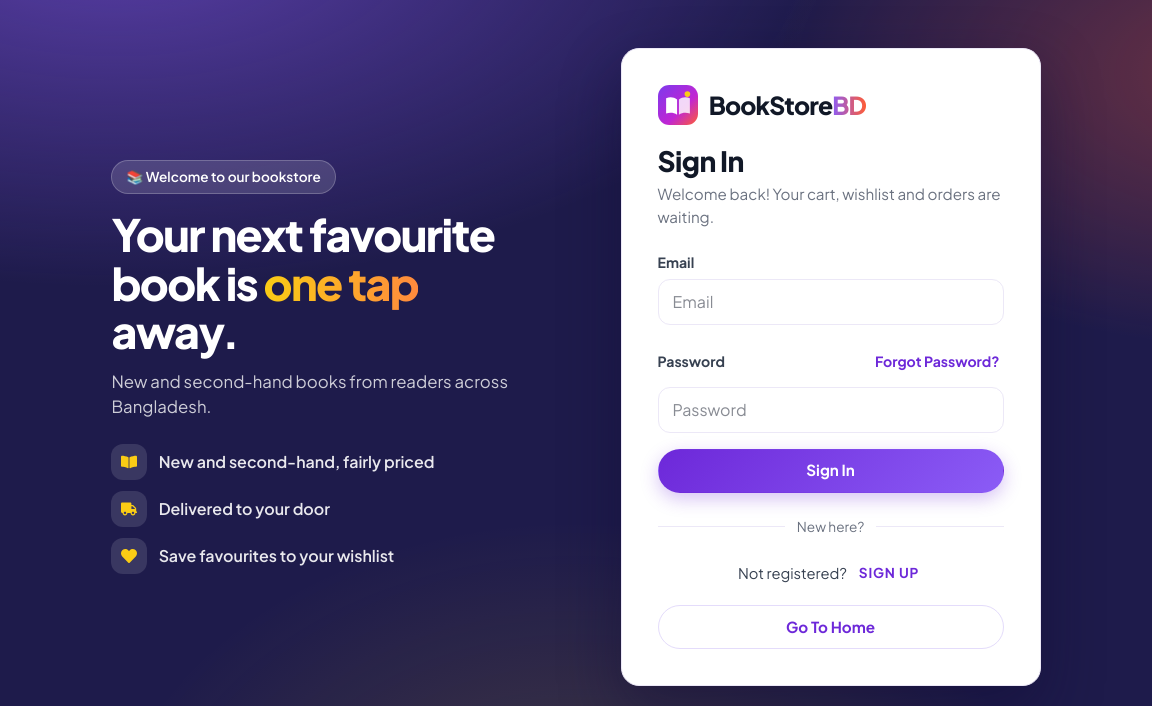
Scenario: two-step sign-in › says so when the code is wrong, and stays on the code step
Step 1. Type "reader@test.com" into the field labelled "Email" → (830, 302), box x1=658 y1=279 x2=1004 y2=325
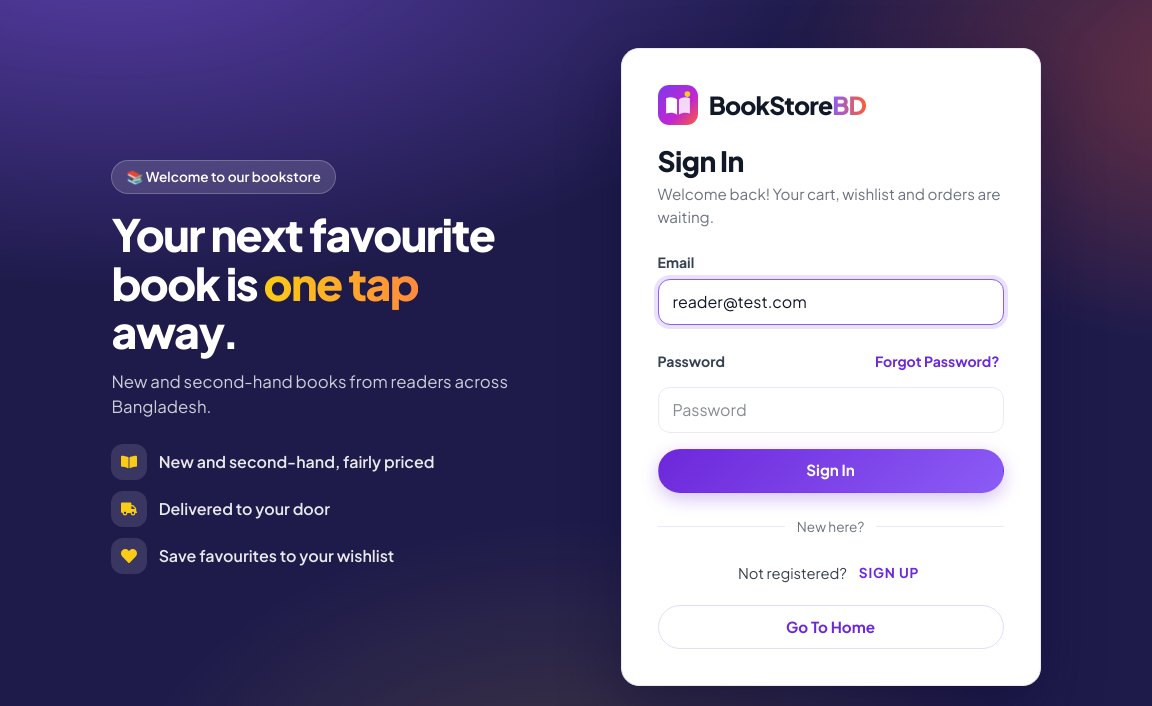
Step 2. Type "Tangerine-Lantern-42!" into the password field labelled "Password" → (830, 410), box x1=658 y1=387 x2=1004 y2=433
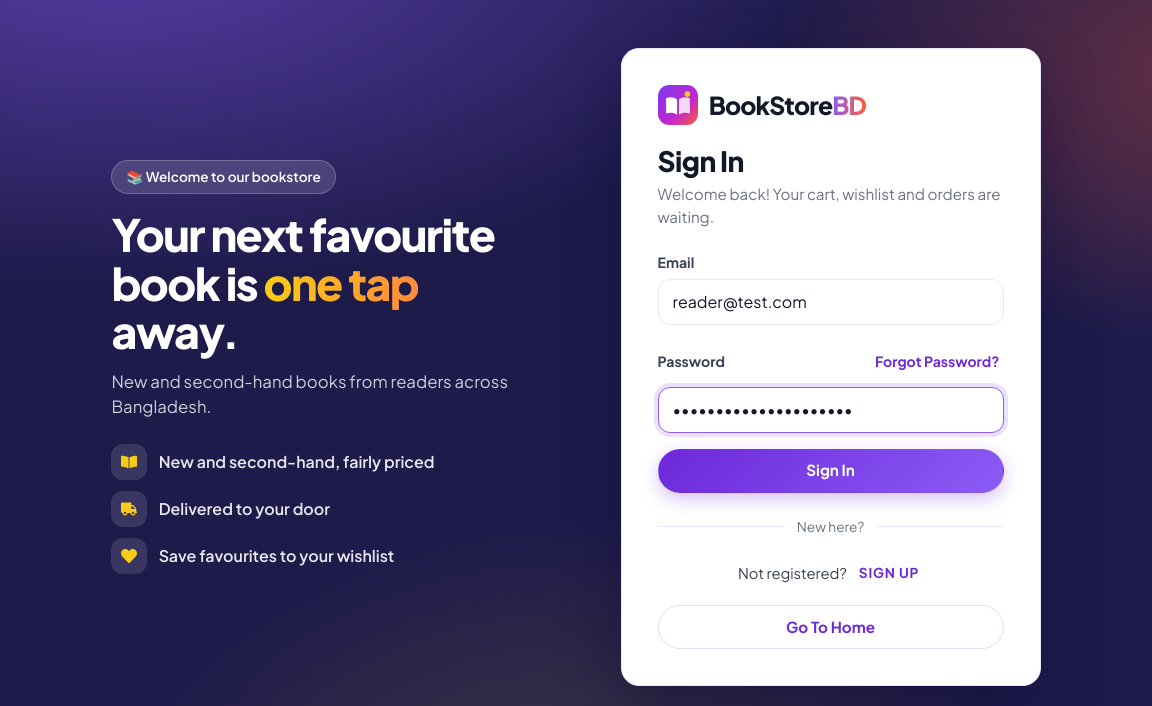
Step 3. Click the button "Sign In" → (830, 471), box x1=658 y1=449 x2=1004 y2=493
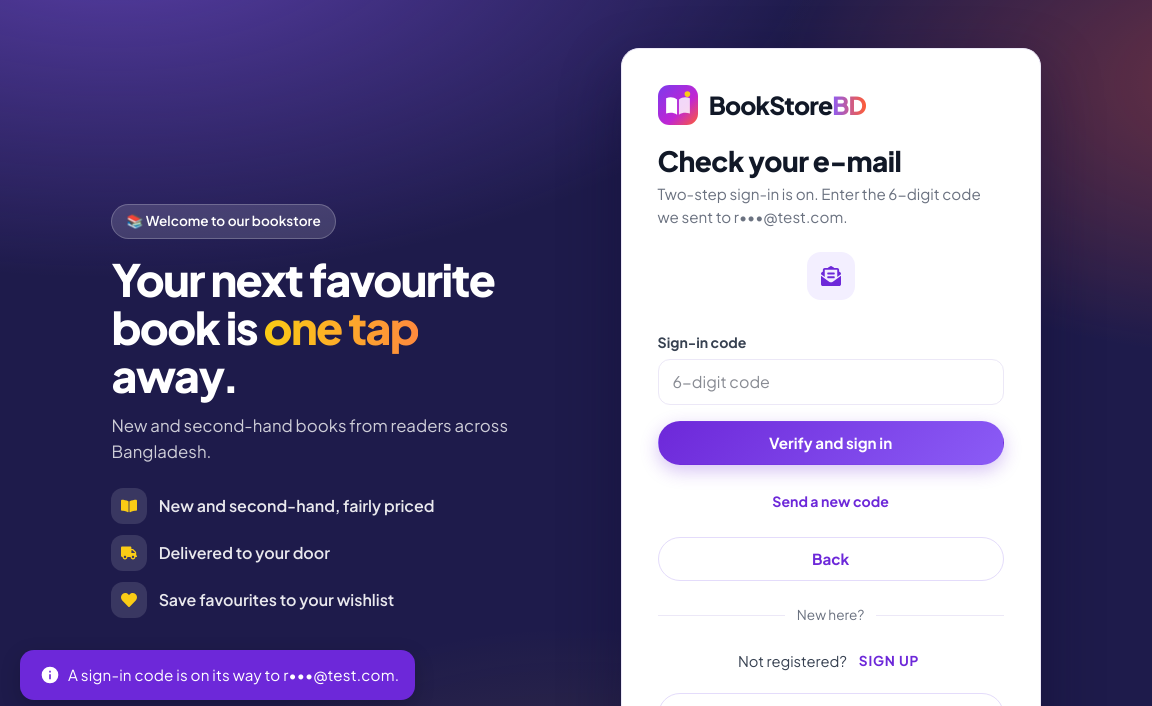
Step 4. Type "000000" into the field labelled "Sign-in code" → (830, 382), box x1=658 y1=359 x2=1004 y2=405
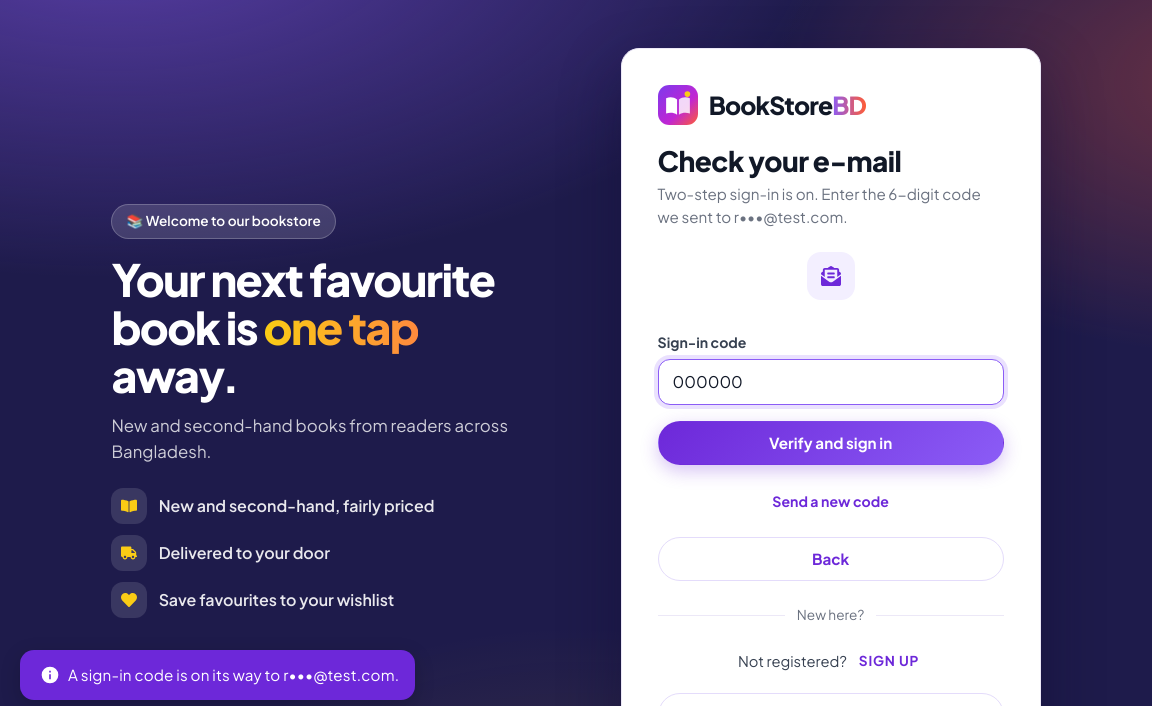
Step 5. Click the button "Verify and sign in" → (830, 443), box x1=658 y1=421 x2=1004 y2=465
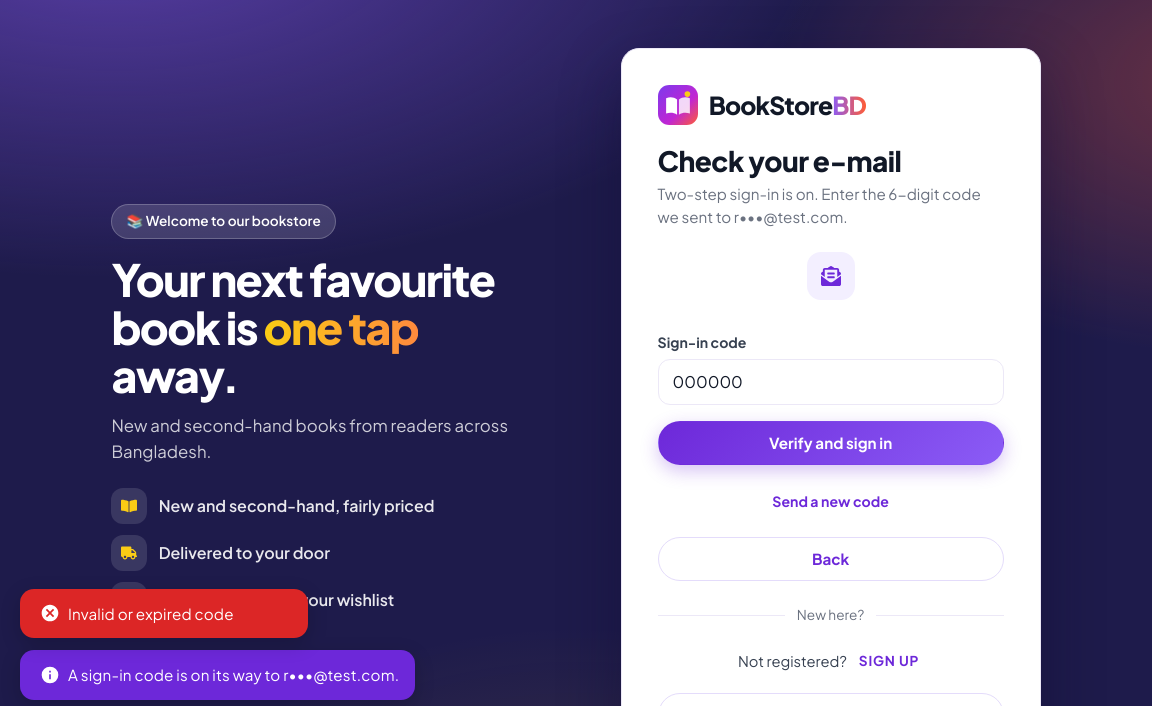
Expected: the heading "Check your e-mail" is shown, x1=658 y1=143 x2=901 y2=178
Expected: the text "Invalid or expired code" is shown, x1=40 y1=603 x2=234 y2=623
